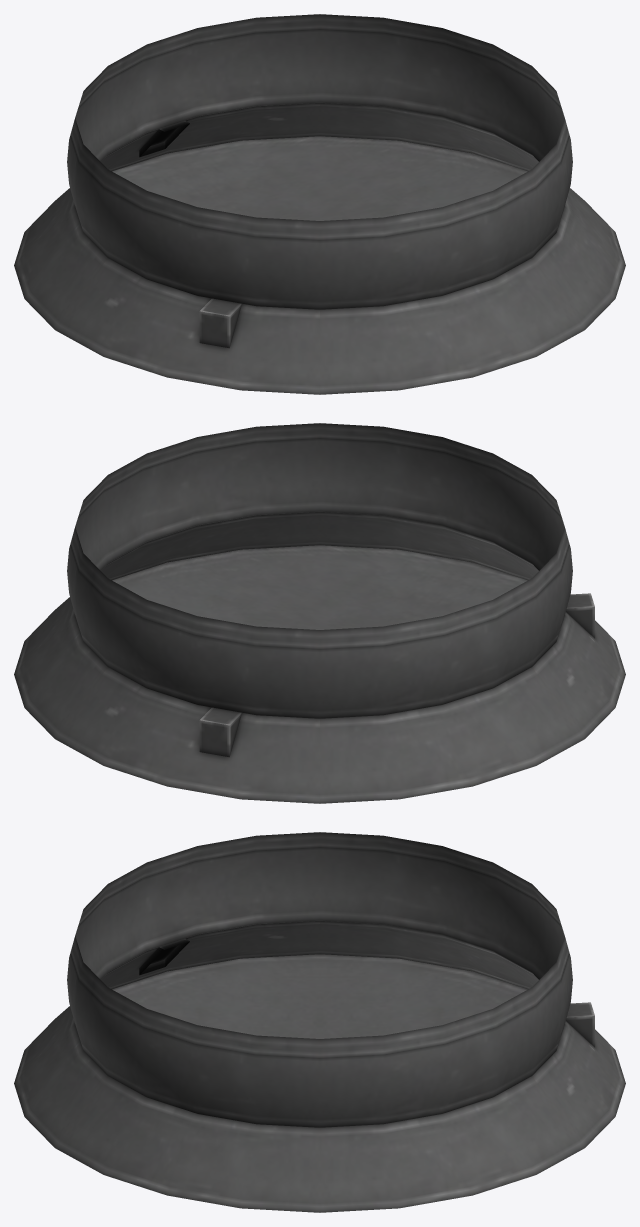
The model's file is metal base.obj.
3 views of the same model, one above another, from view 1: azimuth 30°, elevation 25°; view 2: azimuth 150°, elevation 25°; view 3: azimuth 270°, elevation 25° (orthographic).
Parts seen in each view (by area): view 1: metal base; view 2: metal base; view 3: metal base.
Part boxes in pixels (bbox=[...]): metal base: bbox=[14, 14, 625, 394]; metal base: bbox=[14, 423, 625, 803]; metal base: bbox=[14, 832, 625, 1212].
Bounding box in the file's own units: 0.9375 × 0.275 × 0.9375.
Materials: 1 (1 with a texture image).
